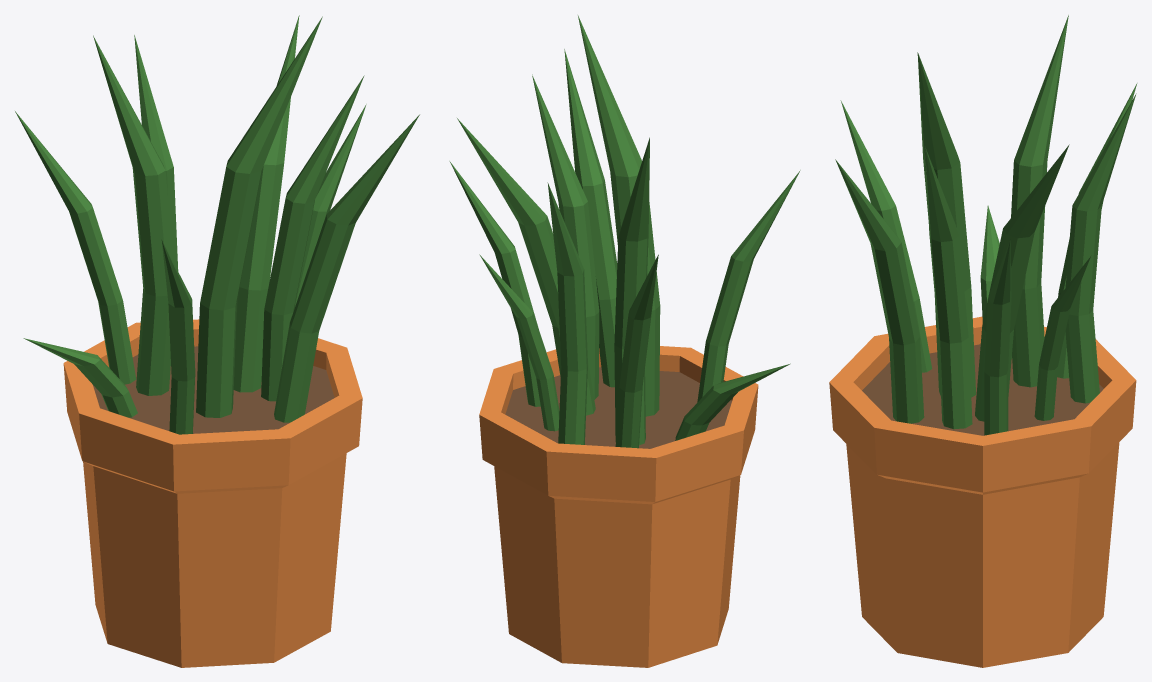
File: Flower_9.fbx
The picture shows the model from 3 angles, left to right: view 1: azimuth 30°, elevation 25°; view 2: azimuth 150°, elevation 25°; view 3: azimuth 270°, elevation 25°; orthographic projection. The views are drawn at different scales.
Visible parts, largest first — view 1: Flower_9; view 2: Flower_9; view 3: Flower_9.
Part boxes in pixels (left/top/right/bottom): Flower_9: left=15, top=15, right=419, bottom=667; Flower_9: left=449, top=15, right=800, bottom=667; Flower_9: left=829, top=15, right=1137, bottom=667.
Size of the model in its own units: 23.65 by 17.91 by 38.63.
